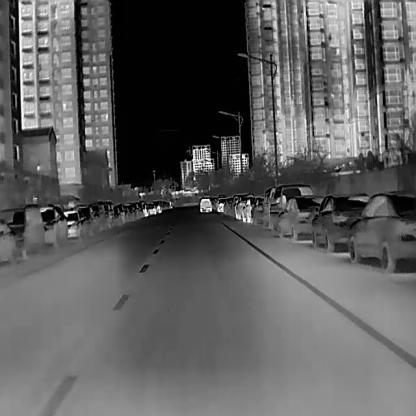car: (348, 189, 415, 271), (310, 190, 369, 252), (0, 203, 45, 260), (267, 184, 313, 237), (274, 194, 323, 242), (38, 202, 67, 247), (73, 202, 96, 236), (63, 208, 81, 237), (234, 193, 252, 219), (241, 195, 256, 222), (250, 196, 263, 224), (199, 197, 211, 211), (214, 197, 225, 211), (146, 201, 156, 214)
